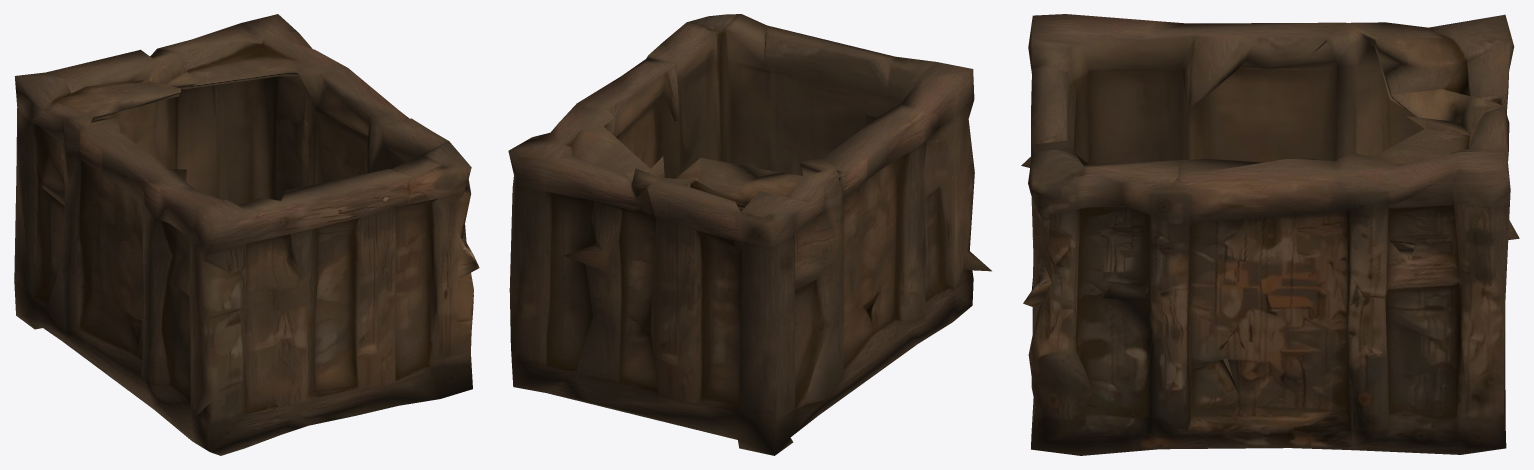
Rendered from crate.glb.
3 renders of one model, left to right at view 1: azimuth 30°, elevation 25°; view 2: azimuth 150°, elevation 25°; view 3: azimuth 270°, elevation 25°, orthographic. The views are drawn at different scales.
Parts seen in each view (by area): view 1: tripo_node_19fee07e-5453-4722-af60-cd61735b8edd; view 2: tripo_node_19fee07e-5453-4722-af60-cd61735b8edd; view 3: tripo_node_19fee07e-5453-4722-af60-cd61735b8edd.
Part boxes in pixels (left/top/right/bottom): tripo_node_19fee07e-5453-4722-af60-cd61735b8edd: left=14, top=14, right=479, bottom=455; tripo_node_19fee07e-5453-4722-af60-cd61735b8edd: left=508, top=14, right=991, bottom=455; tripo_node_19fee07e-5453-4722-af60-cd61735b8edd: left=1021, top=14, right=1519, bottom=455.
Size of the model in its own units: 0.819 by 0.65 by 1.
Materials: 1 (1 with a texture image).
